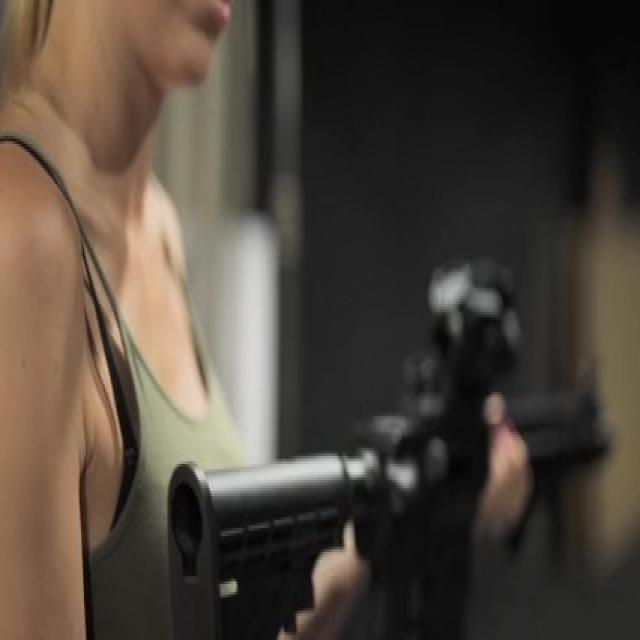Gun_Holder: (144, 232, 640, 640)
Person: (0, 0, 360, 640)
